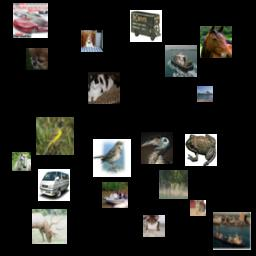automobile: (13, 3, 48, 38), (38, 169, 70, 201)
bird: (93, 139, 131, 177), (36, 117, 74, 155), (141, 132, 173, 164)
cat: (88, 72, 120, 104), (190, 200, 206, 216)
deer: (32, 209, 67, 244), (159, 170, 188, 199)
dog: (143, 215, 165, 237), (81, 30, 103, 52), (26, 48, 48, 70)
frog: (185, 134, 217, 166)
ship: (213, 212, 251, 250), (165, 45, 197, 77), (102, 182, 128, 208), (197, 86, 213, 102)
truck: (130, 10, 162, 42)
